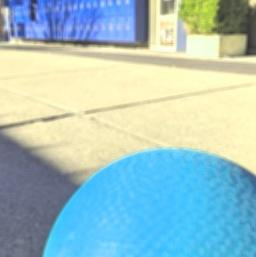algae: (39, 145, 256, 257)
